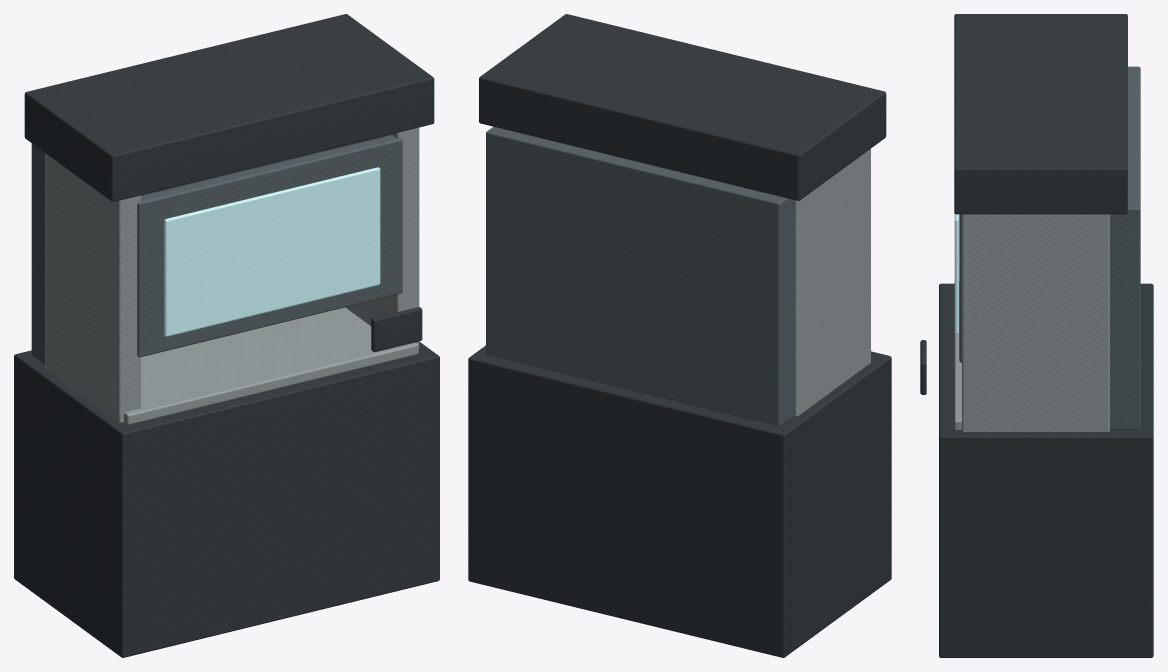
File: LaboratoryFumeHood.glb
3 renders of one model, left to right at view 1: azimuth 30°, elevation 25°; view 2: azimuth 150°, elevation 25°; view 3: azimuth 270°, elevation 25°, orthographic.
Visible parts, largest first — view 1: LaboratoryFumeHood_Mesh; view 2: LaboratoryFumeHood_Mesh; view 3: LaboratoryFumeHood_Mesh.
Boxes of the visible parts, left/top/right/bottom form: LaboratoryFumeHood_Mesh: left=14, top=14, right=439, bottom=657; LaboratoryFumeHood_Mesh: left=468, top=14, right=891, bottom=657; LaboratoryFumeHood_Mesh: left=920, top=14, right=1153, bottom=657.
Size of the model in its own units: 1.44 by 2.12 by 0.9125.
Materials: 4 (4 with a texture image).
